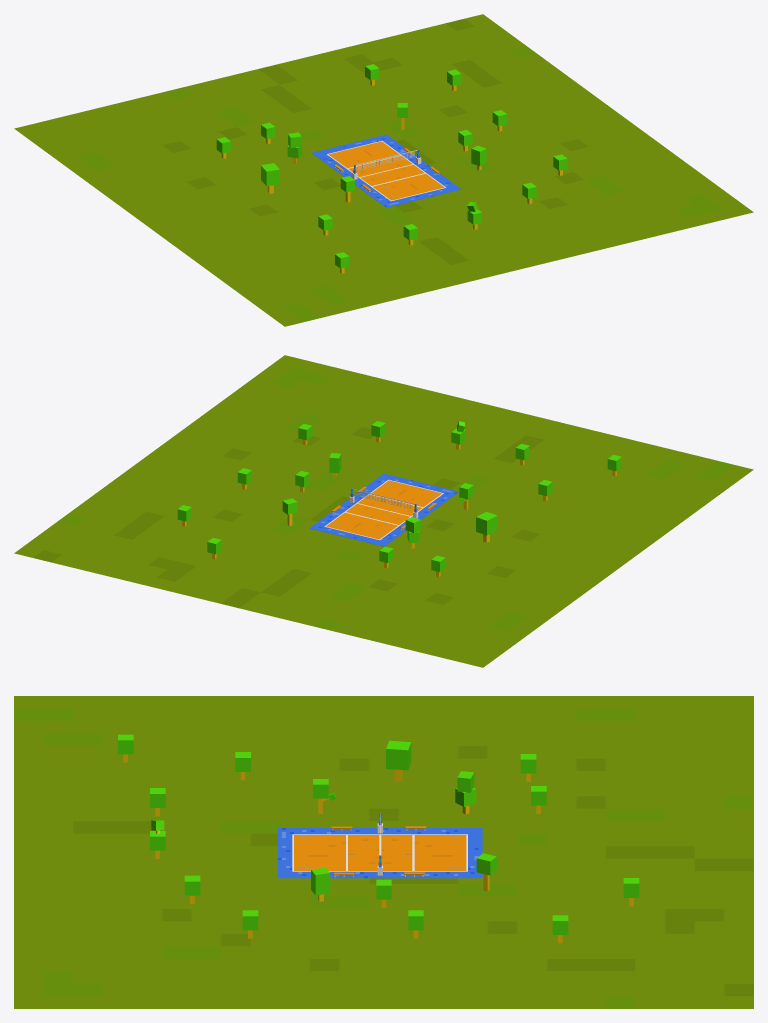
The model's file is cancha.gltf.
The picture shows the model from 3 angles, top to bottom: view 1: azimuth 30°, elevation 25°; view 2: azimuth 150°, elevation 25°; view 3: azimuth 270°, elevation 25°; orthographic projection. The views are drawn at different scales.
Visible parts, largest first — view 1: Plano, Plane088, Box191; view 2: Plano, Plane088, Box191; view 3: Plano, Plane088, Box191, Cubo.
Boxes of the visible parts, x1,y1,x2,y2 form: Plano: (14,14,753,326); Plane088: (327,140,446,201); Box191: (311,134,461,207); Plano: (14,355,753,667); Plane088: (324,479,443,540); Box191: (309,473,458,546); Plano: (14,696,753,1008); Plane088: (292,834,467,871); Box191: (277,828,482,878); Cubo: (386,740,411,770).
Size of what is drawn, in the model's own units: 75.86 by 4.89 by 75.86.
Materials: 62 (9 with a texture image).
